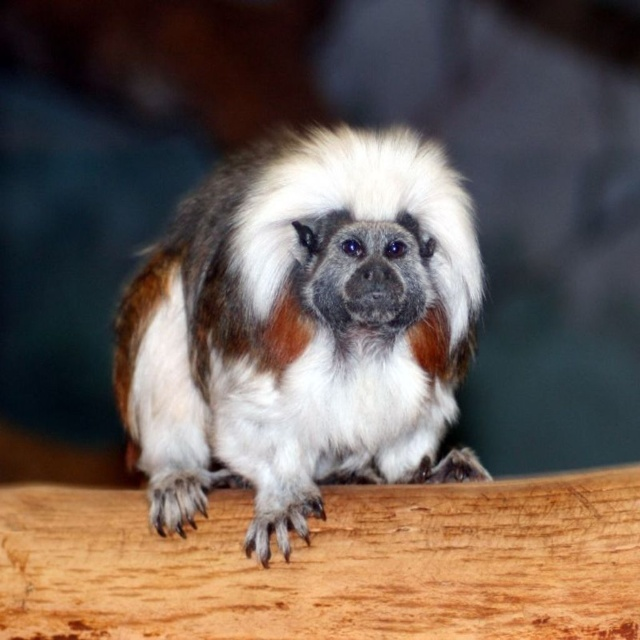Monkey: (112, 118, 492, 570)
